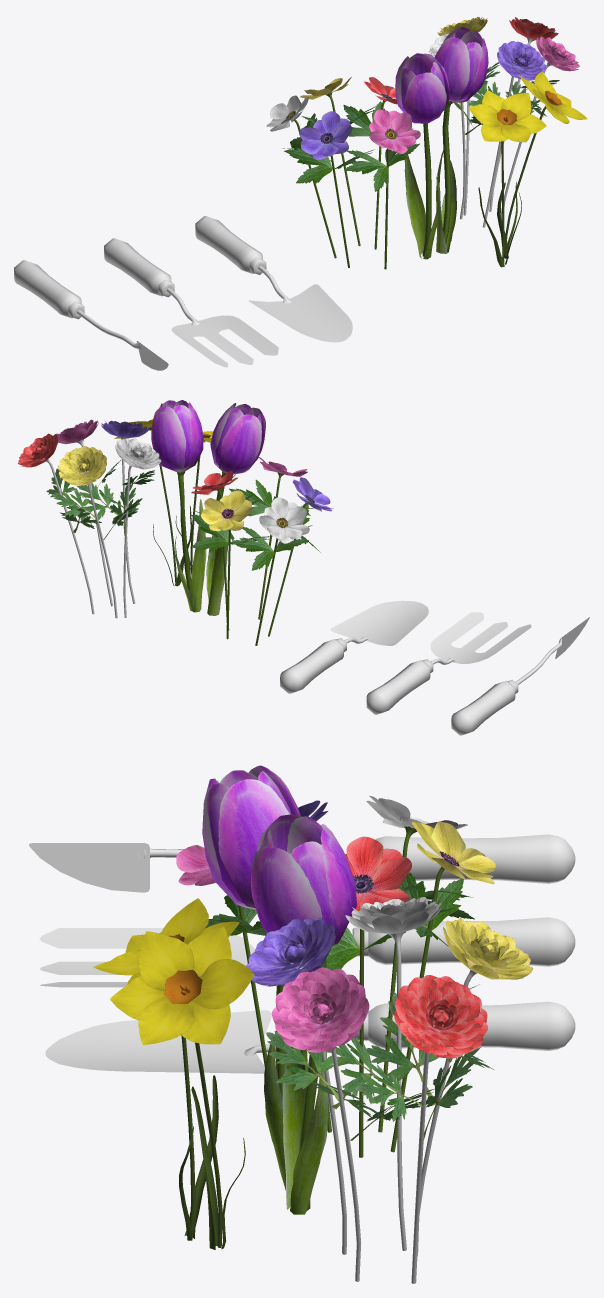
File: tulip_1_1.fbx
The picture shows the model from 3 angles, top to bottom: view 1: azimuth 30°, elevation 25°; view 2: azimuth 150°, elevation 25°; view 3: azimuth 270°, elevation 25°; orthographic projection. The views are drawn at different scales.
Parts seen in each view (by area): view 1: Cylinder.002, Plane.003, Plane.001, Cylinder.001, Cylinder.003, Cylinder.009, Cylinder.010, Plane.002, Cylinder.004, Cylinder, Cylinder.005, Cylinder.013 (+5 smaller); view 2: Cylinder.001, Plane.003, Cylinder.002, Plane.001, Cylinder.013, Cylinder.007, Cylinder.012, Plane.002, Cylinder.008, Cylinder.006, Cylinder, Cylinder.010 (+5 smaller); view 3: Cylinder.001, Cylinder.004, Plane.003, Plane.002, Cylinder.002, Cylinder.006, Cylinder.005, Plane.001, Cylinder.007, Cylinder, Cylinder.011, Cylinder.008 (+4 smaller).
Boxes of the visible parts, box(x1,y1,x2,y2) form: Cylinder.002: box(395, 53, 449, 259); Plane.003: box(195, 216, 352, 342); Plane.001: box(104, 238, 278, 367); Cylinder.001: box(434, 27, 488, 253); Cylinder.003: box(468, 90, 546, 267); Cylinder.009: box(284, 111, 374, 267); Cylinder.010: box(344, 109, 420, 269); Plane.002: box(14, 260, 168, 370); Cylinder.004: box(497, 71, 587, 258); Cylinder: box(473, 41, 546, 227); Cylinder.005: box(501, 36, 579, 220); Cylinder.013: box(266, 95, 336, 258); Cylinder.001: box(151, 400, 206, 612); Plane.003: box(280, 600, 428, 693); Cylinder.002: box(206, 403, 265, 615); Plane.001: box(366, 612, 531, 714); Cylinder.013: box(230, 497, 312, 645); Cylinder.007: box(52, 446, 141, 618); Cylinder.012: box(191, 490, 272, 639); Plane.002: box(451, 617, 589, 735); Cylinder.008: box(105, 438, 161, 617); Cylinder.006: box(18, 433, 101, 614); Cylinder: box(77, 420, 154, 603); Cylinder.010: box(229, 457, 313, 619); Cylinder.001: box(250, 814, 356, 1214); Cylinder.004: box(110, 927, 254, 1249); Plane.003: box(45, 1001, 575, 1073); Plane.002: box(29, 834, 575, 892); Cylinder.002: box(202, 765, 307, 1190); Cylinder.006: box(355, 975, 487, 1283); Cylinder.005: box(266, 967, 434, 1281); Plane.001: box(39, 917, 575, 987); Cylinder.007: box(366, 918, 533, 1256); Cylinder: box(246, 917, 385, 1254); Cylinder.011: box(326, 836, 453, 1157); Cylinder.008: box(325, 897, 479, 1250).
Size of the model in its own units: 5288 by 2149 by 2581.
